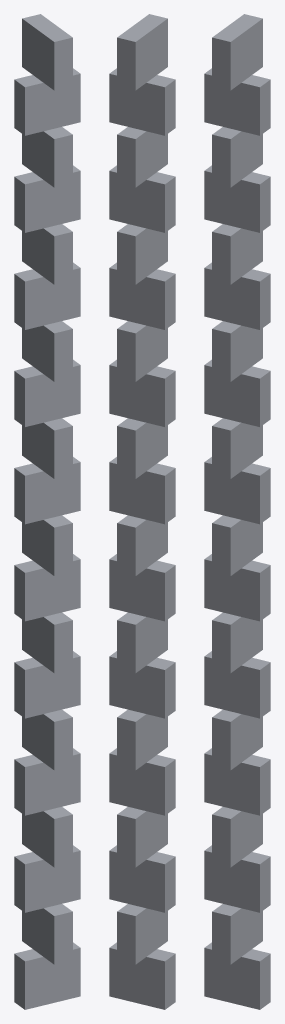
The model's file is LoonieChain.obj.
3 views of the same model, side by side, from view 1: azimuth 30°, elevation 25°; view 2: azimuth 150°, elevation 25°; view 3: azimuth 330°, elevation 25° (orthographic).
Parts seen in each view (by area): view 1: LoonieChain; view 2: LoonieChain; view 3: LoonieChain.
Part boxes in pixels (box(x1,y1,x2,y2)): LoonieChain: box(14, 14, 80, 1009); LoonieChain: box(109, 14, 175, 1009); LoonieChain: box(204, 14, 270, 1009).
Bounding box in the file's own units: 0.06 × 1 × 0.06.
1 material, 1 textured.
